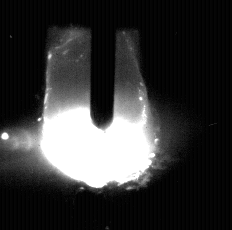arame: (91, 0, 115, 132)
poca: (41, 0, 151, 230)
